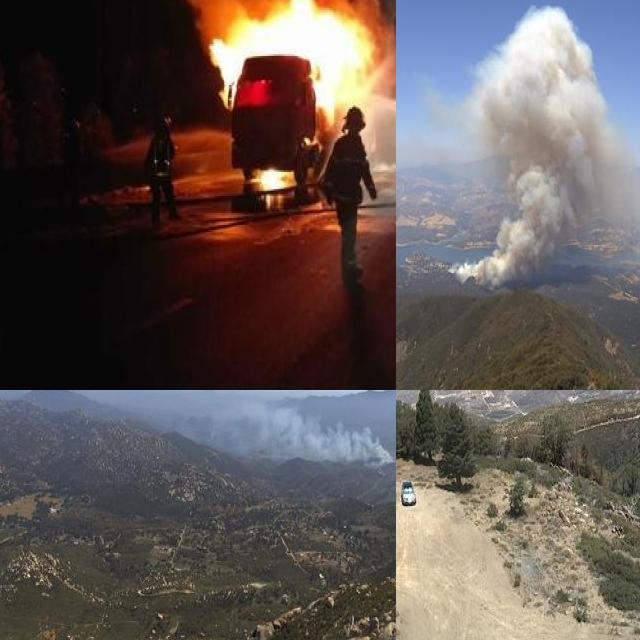fire: (214, 0, 367, 115)
smoke: (439, 0, 636, 288), (165, 390, 394, 467)
